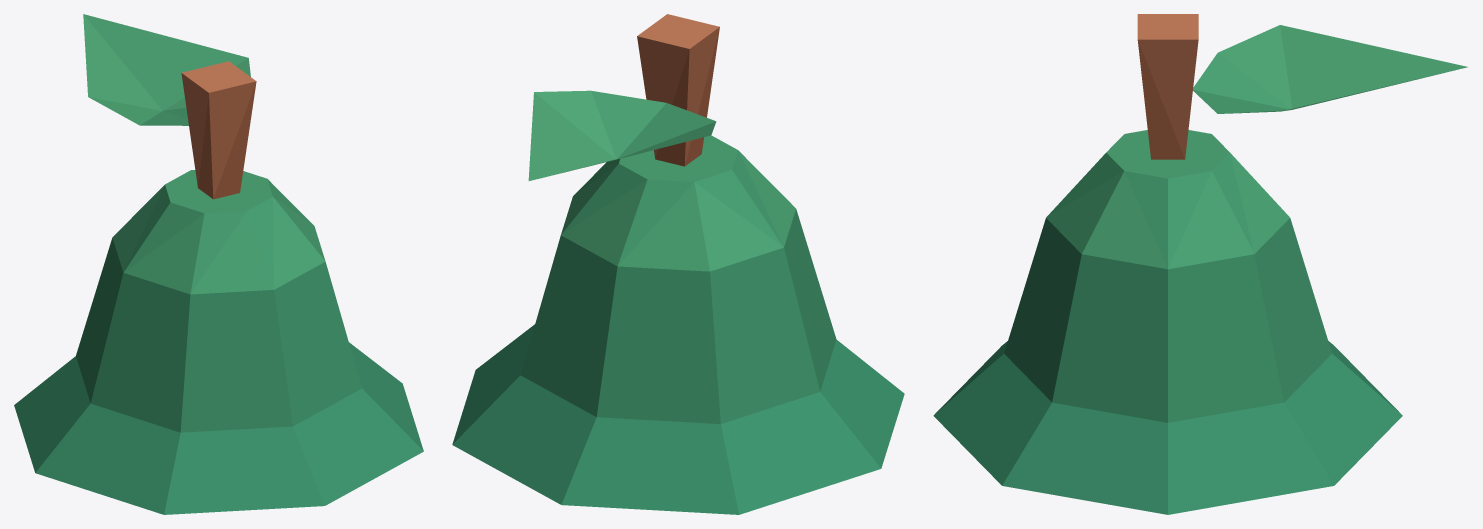
The model's file is fruit_half_pear.glb.
3 renders of one model, left to right at view 1: azimuth 30°, elevation 25°; view 2: azimuth 150°, elevation 25°; view 3: azimuth 270°, elevation 25°, orthographic. The views are drawn at different scales.
Visible parts, largest first — view 1: fruit_half_pear; view 2: fruit_half_pear; view 3: fruit_half_pear.
Boxes of the visible parts, x1=… form: fruit_half_pear: x1=14, y1=14, x2=423, y2=514; fruit_half_pear: x1=452, y1=14, x2=904, y2=514; fruit_half_pear: x1=933, y1=14, x2=1467, y2=514.
Size of the model in its own units: 0.0712 by 0.065 by 0.0811.
